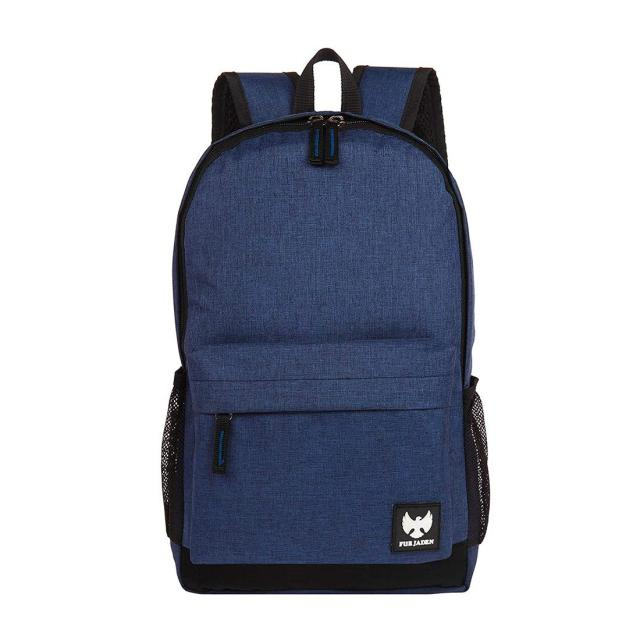backpack: (162, 48, 492, 596)
